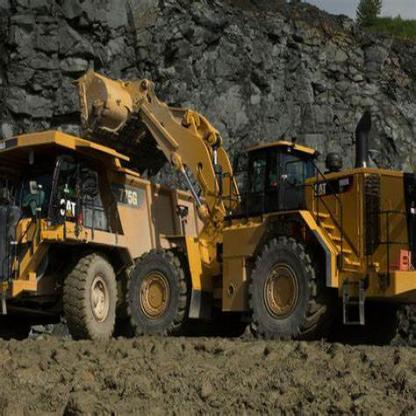bull_dozer/loader/grader: (55, 58, 415, 344)
